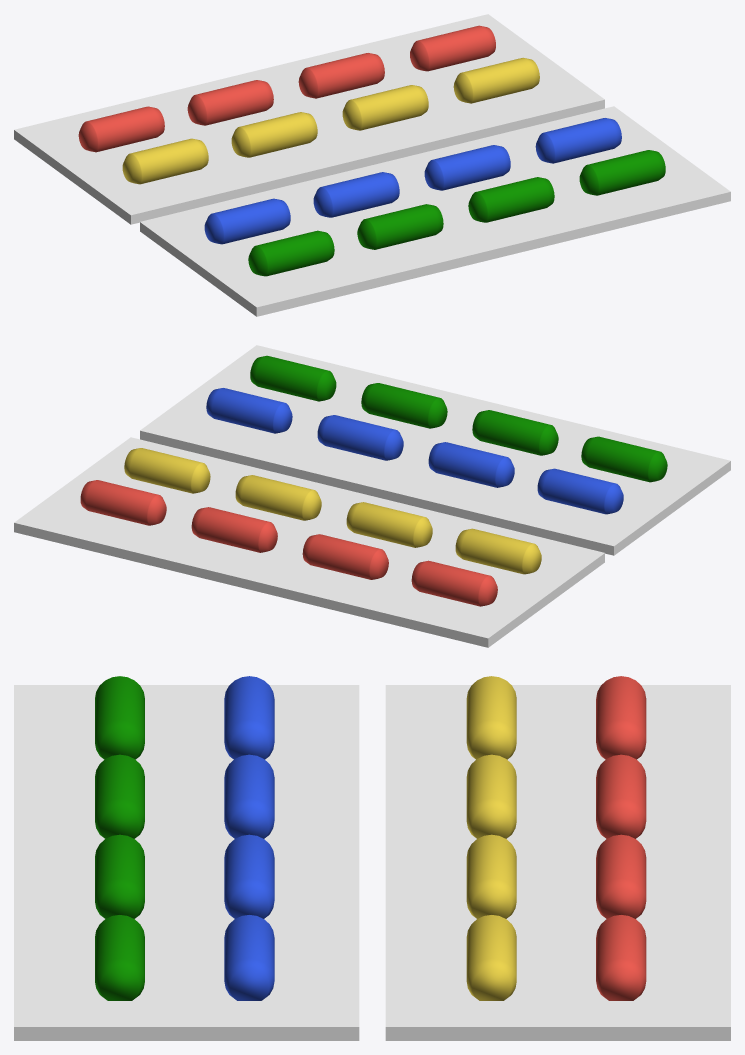
File: Antibiotics.fbx
The picture shows the model from 3 angles, top to bottom: view 1: azimuth 30°, elevation 25°; view 2: azimuth 150°, elevation 25°; view 3: azimuth 270°, elevation 25°; orthographic projection. The views are drawn at different scales.
Parts seen in each view (by area): view 1: Cylinder.003; view 2: Cylinder.003; view 3: Cylinder.003.
Part boxes in pixels (x1,y1,x2,y2): Cylinder.003: [14, 14, 730, 316]; Cylinder.003: [14, 345, 730, 647]; Cylinder.003: [14, 676, 730, 1040].
Size of the model in its own units: 285 by 19.82 by 253.
